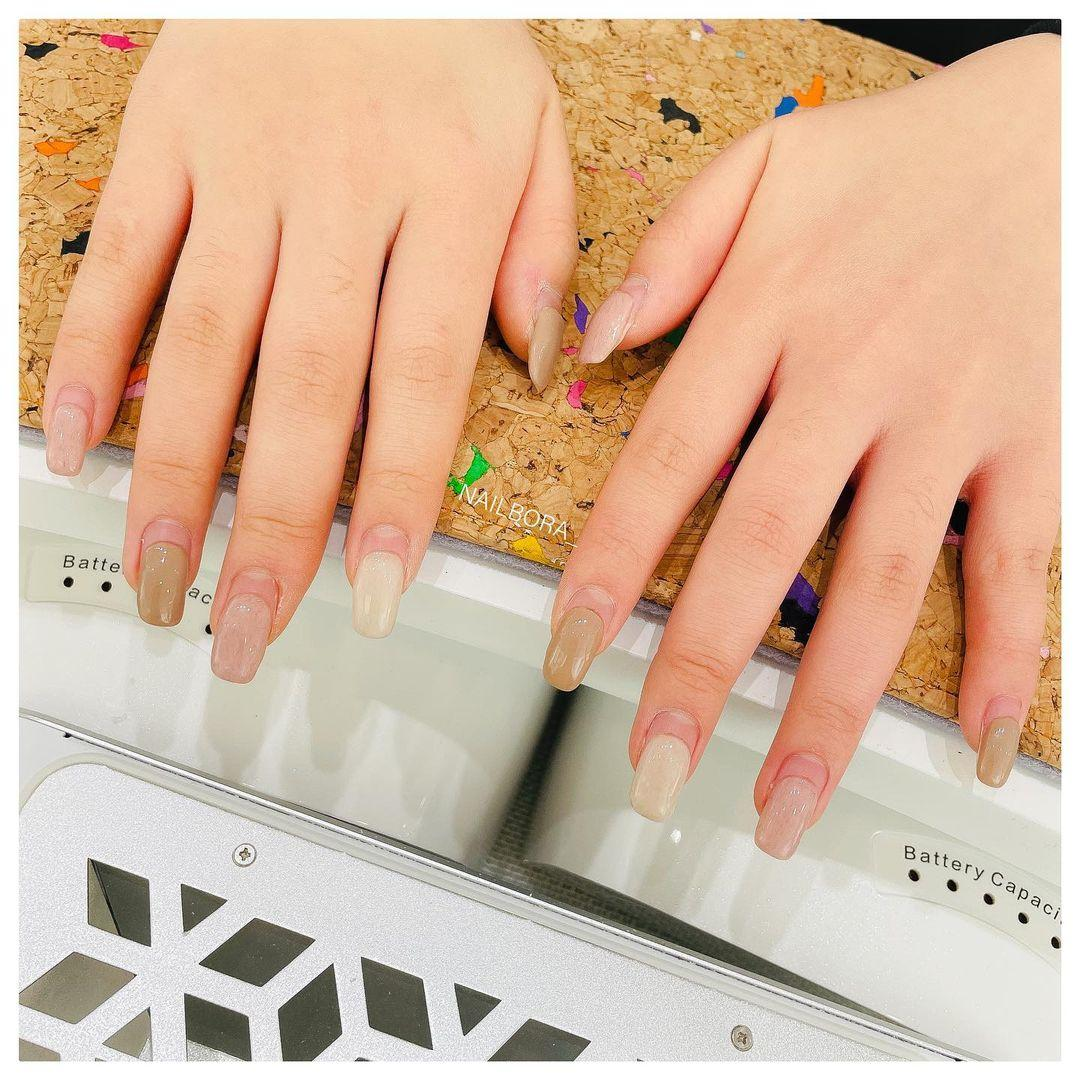nail: (209, 566, 280, 683), (753, 750, 828, 860), (349, 523, 409, 637), (576, 275, 647, 365), (134, 516, 191, 627), (542, 604, 604, 692), (629, 734, 690, 821), (45, 381, 95, 476), (975, 694, 1025, 787), (526, 304, 564, 393)
